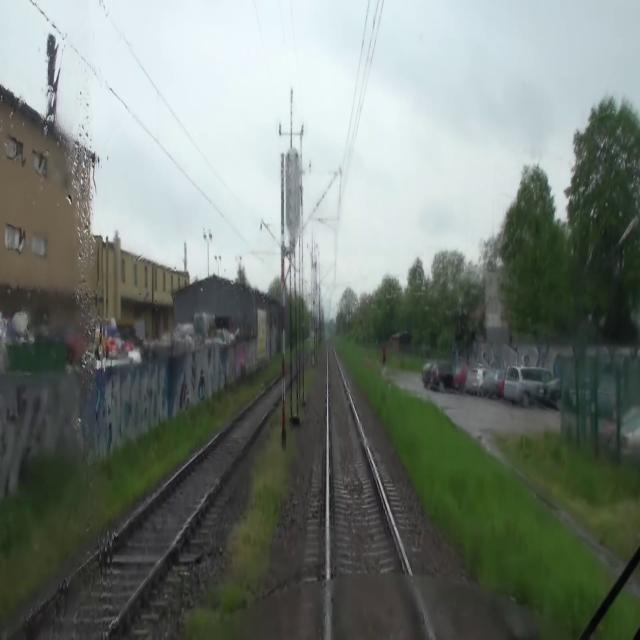rail-track: (11, 377, 281, 639), (328, 335, 430, 639), (287, 370, 289, 382)
